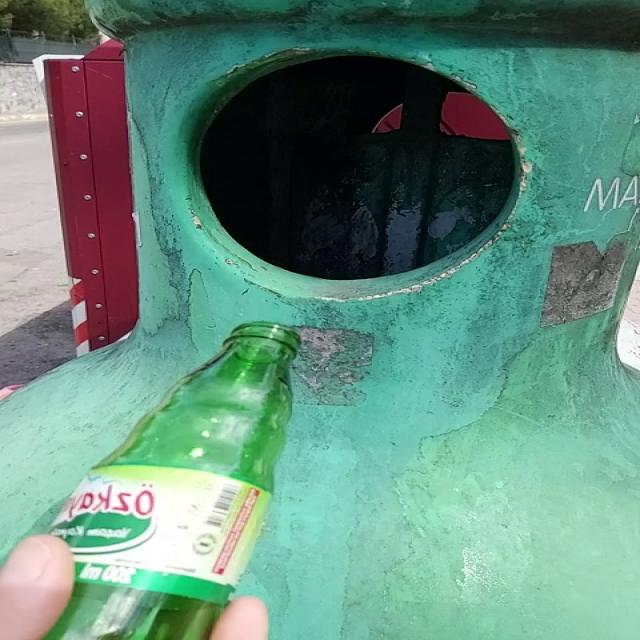glass: (45, 323, 299, 640)
